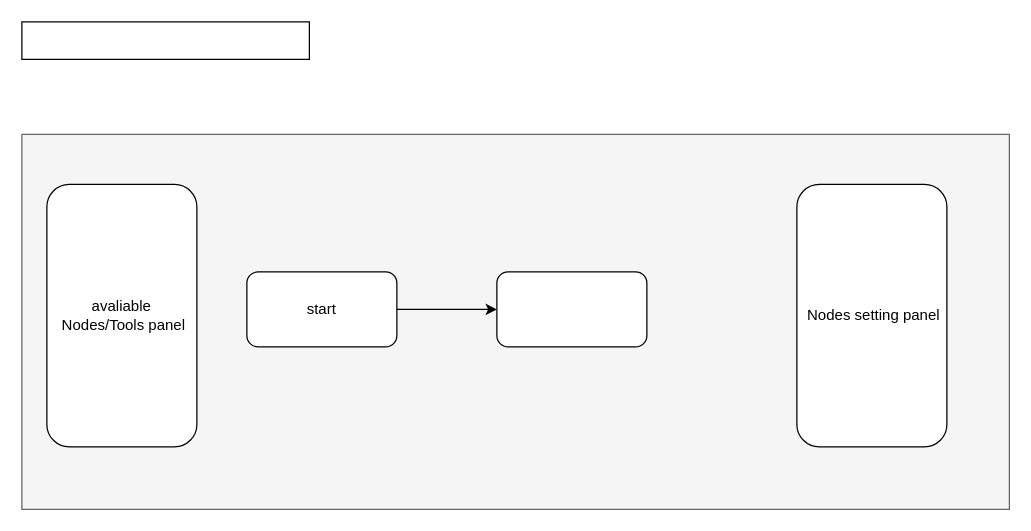
Image size: 1031x531. Some labels were removed from this diagram. The centre of each missing label's shape, as x and y in pixels:
/agent-builder/{agent-id}: point 165,40
my agent: point 571,309
